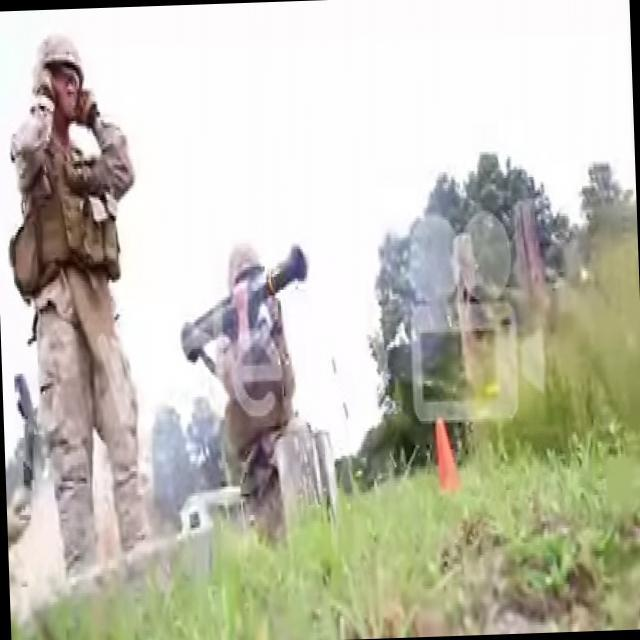rocket: (178, 245, 306, 368)
